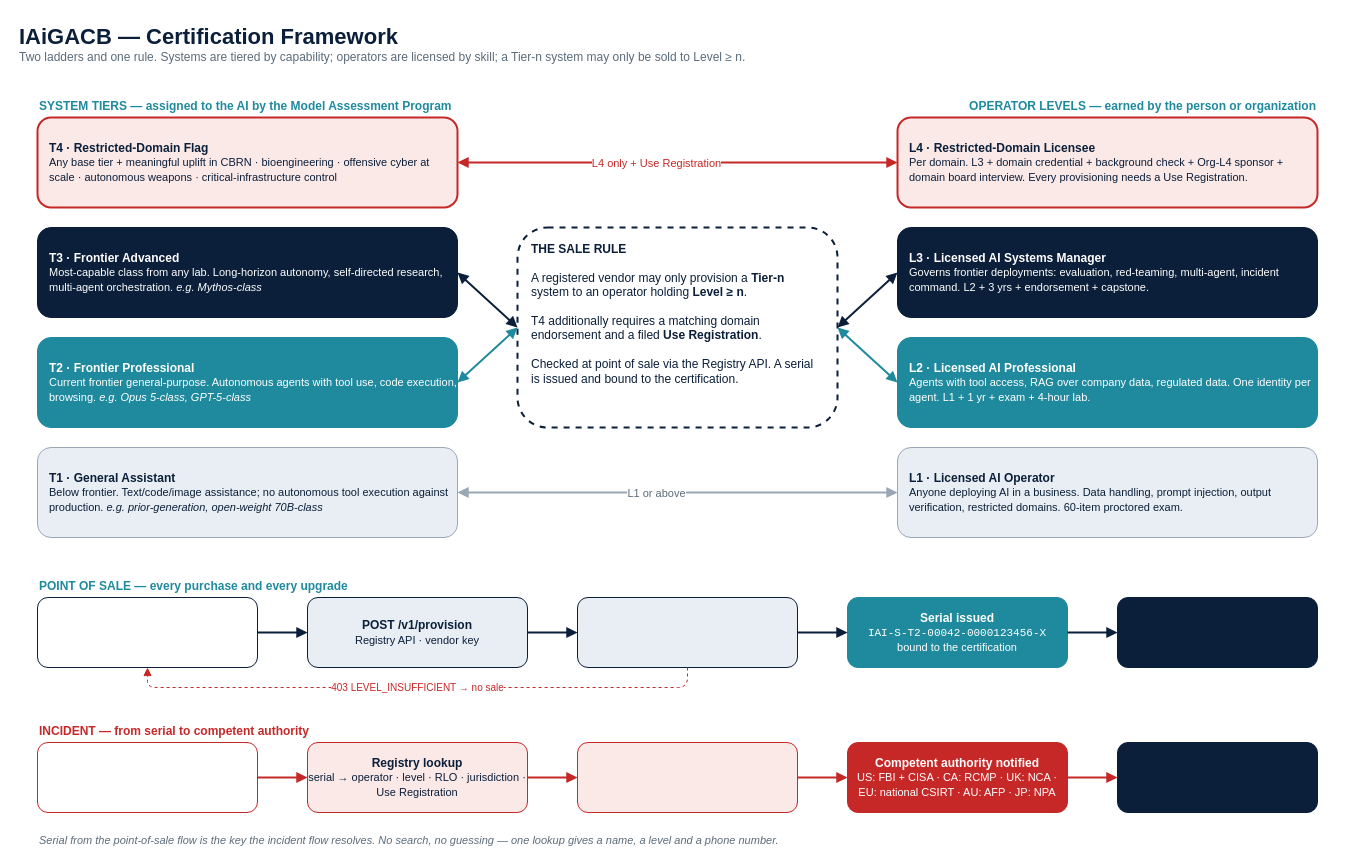
Some shapes in this 1354 by 864 pixel diagram are drawn without their labels. Here are the shapes that lost their labels. From the top down, the centre of each, then its label:
pixel 147 632: Vendor checkout buyer enters certification number
pixel 687 632: Validate cert active · level ≥ tier · T4: Use Registration
pixel 1217 632: Instance deployed own credential · own audit trail · traceable
pixel 147 777: Incident reported vendor or operator · T4 24h · T3 72h · T2 7d · T1 30d
pixel 687 777: Severity triage duty officer · S1–S4 · 4h for S1/S2
pixel 1217 777: Post-incident review Register / guardrail update · exam item generated
